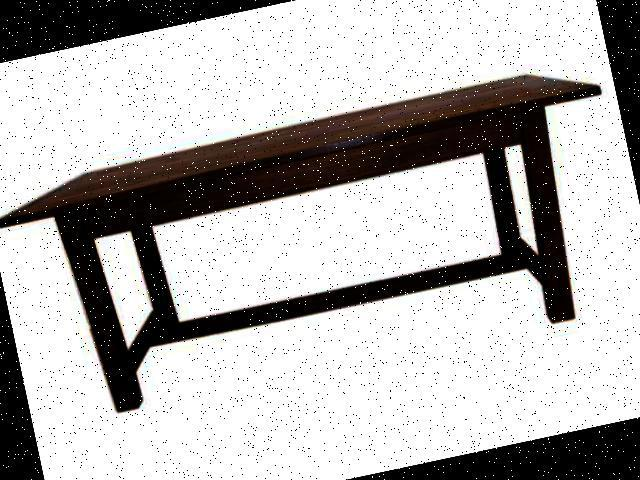Mesa: (3, 67, 639, 427)
